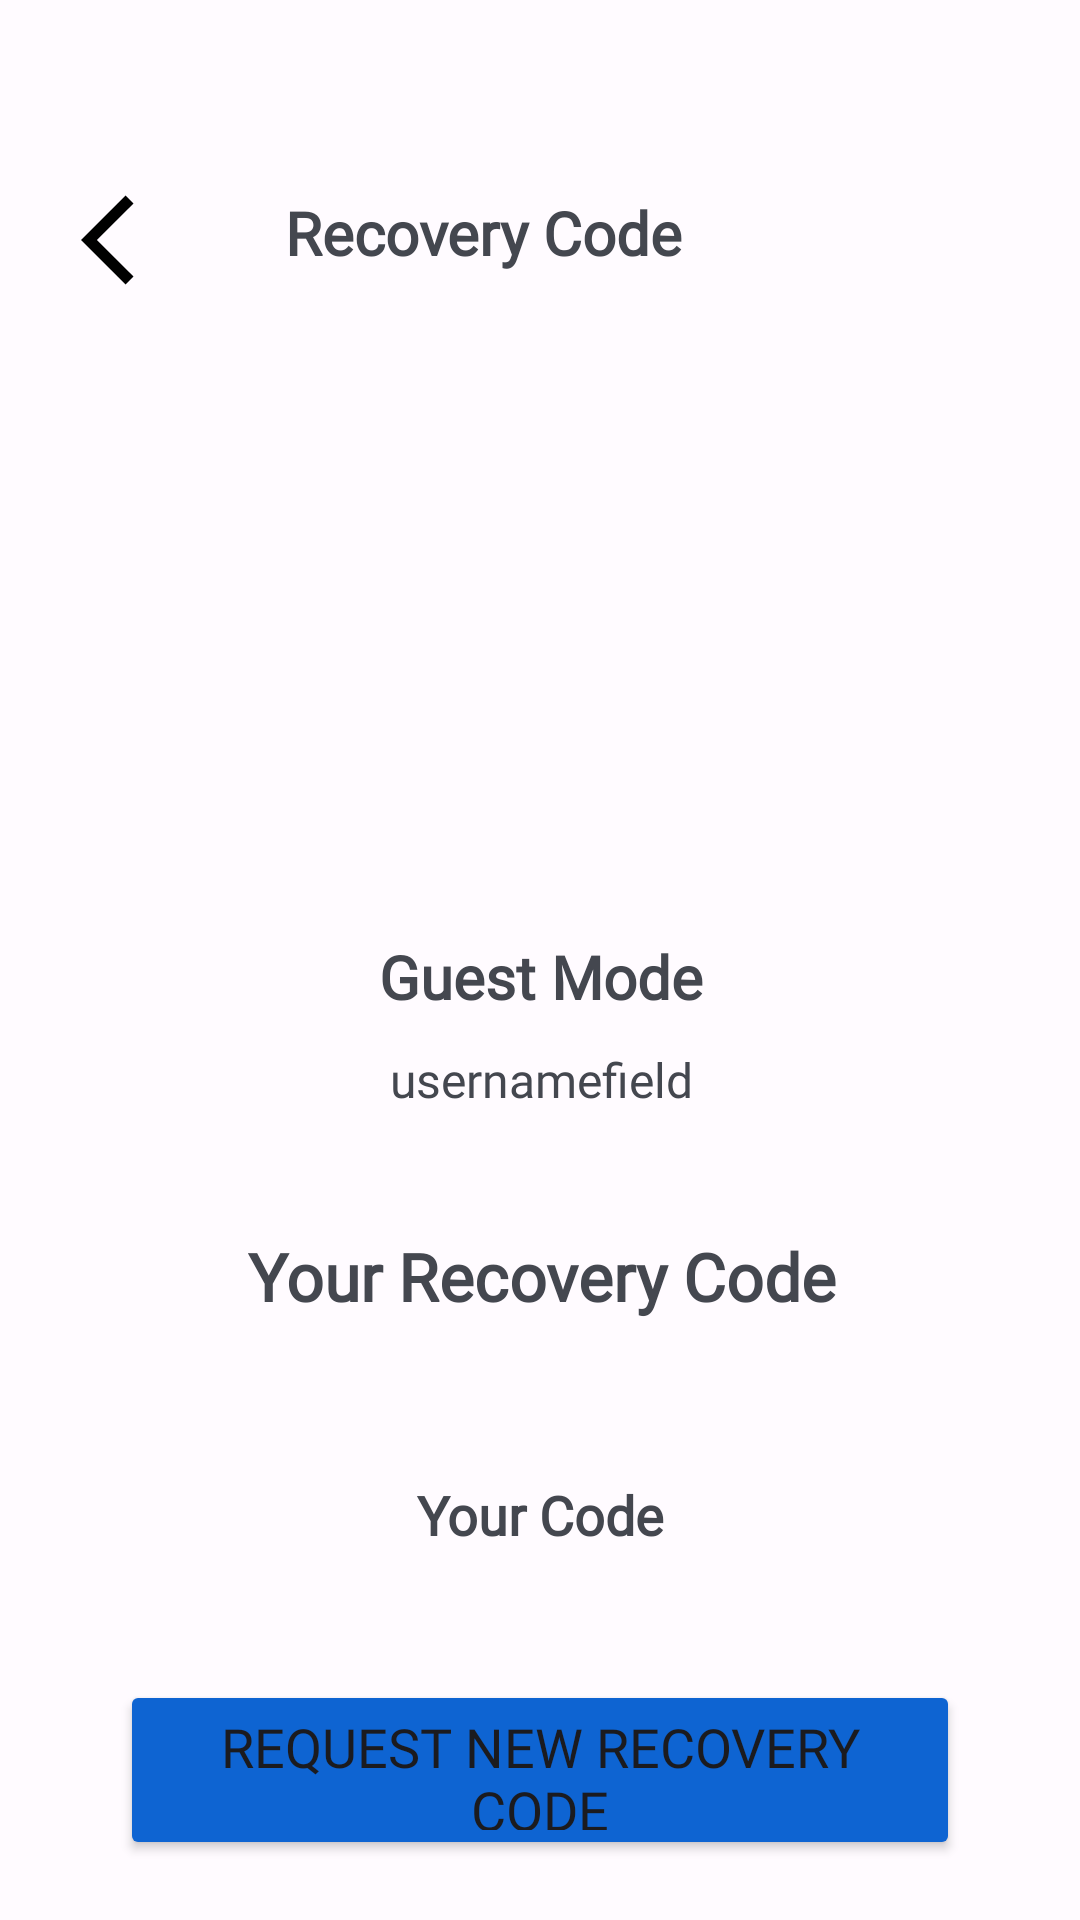

Where to tap for icons on this 1080×1920 app screen, as [x,y]:
arrow back: [107,240]
